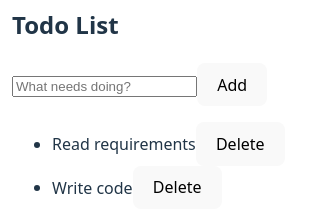
Test case: TodoList › deletes a todo
This screenshot has width=332, height=211.
Step 1. Click the button "Delete" next to "Read requirements" → (240, 144), box [196,122,285,166]
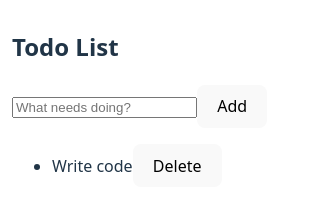
expect the text "Read requirements" is gone: met
